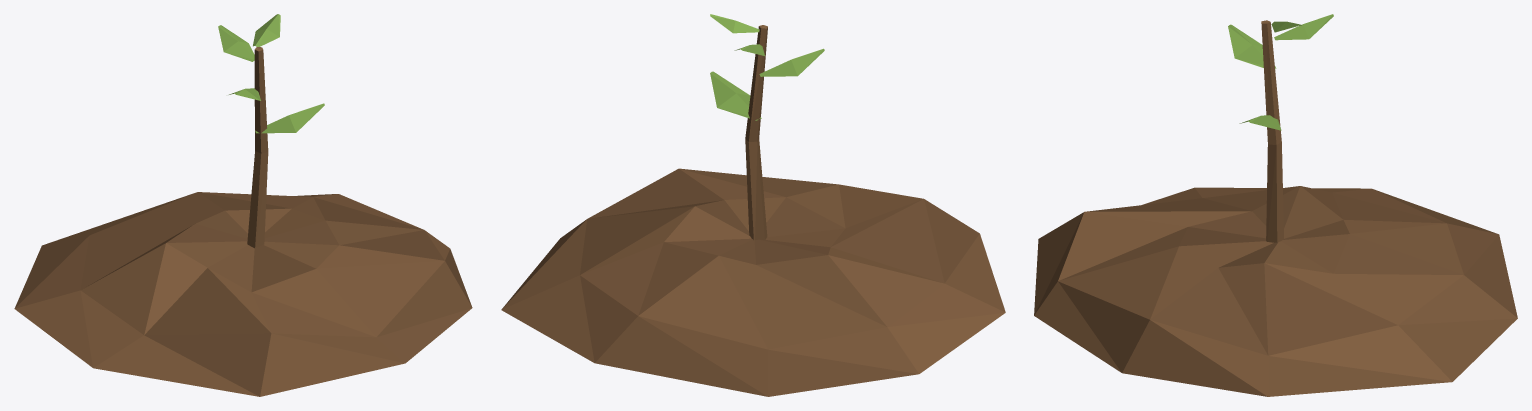
File: ZB_agac_sidr_a2.glb
The picture shows the model from 3 angles, left to right: view 1: azimuth 30°, elevation 25°; view 2: azimuth 150°, elevation 25°; view 3: azimuth 270°, elevation 25°; orthographic projection. The views are drawn at different scales.
Visible parts, largest first — view 1: ZB_agac_sidr_a2; view 2: ZB_agac_sidr_a2; view 3: ZB_agac_sidr_a2.
Boxes of the visible parts, x1=… form: ZB_agac_sidr_a2: x1=14, y1=14, x2=472, y2=396; ZB_agac_sidr_a2: x1=501, y1=14, x2=1005, y2=396; ZB_agac_sidr_a2: x1=1034, y1=14, x2=1517, y2=396.
Bounding box in the file's own units: 0.5784 × 0.3713 × 0.565.
